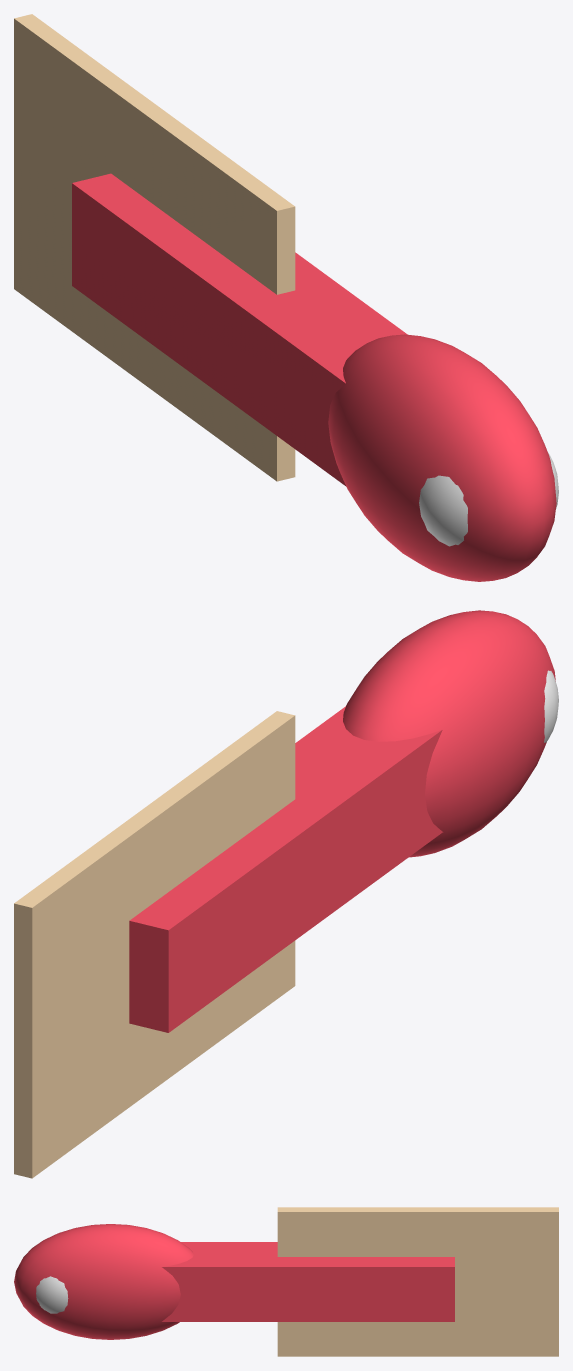
Rendered from Fish_Pinkie_Placeholder.fbx.
3 views of the same model, one above another, from view 1: azimuth 30°, elevation 25°; view 2: azimuth 150°, elevation 25°; view 3: azimuth 270°, elevation 25° (orthographic). The views are drawn at different scales.
Visible parts, largest first — view 1: Cube__2_, Cube__1_, Sphere, Sphere_1; view 2: Cube__2_, Cube__1_, Sphere, Sphere_1; view 3: Cube__2_, Cube__1_, Sphere, Sphere_1.
Part boxes in pixels (bbox=[...]): Cube__2_: bbox=[14, 14, 295, 481]; Cube__1_: bbox=[72, 173, 407, 485]; Sphere: bbox=[328, 334, 556, 581]; Sphere_1: bbox=[419, 452, 558, 546]; Cube__2_: bbox=[14, 711, 295, 1178]; Cube__1_: bbox=[129, 706, 442, 1032]; Sphere: bbox=[343, 610, 555, 857]; Sphere_1: bbox=[544, 670, 558, 742]; Cube__2_: bbox=[277, 1207, 558, 1356]; Cube__1_: bbox=[162, 1242, 454, 1321]; Sphere: bbox=[14, 1224, 193, 1339]; Sphere_1: bbox=[36, 1276, 68, 1313].
Bounding box in the file's own units: 37.43 × 68.69 × 234.
